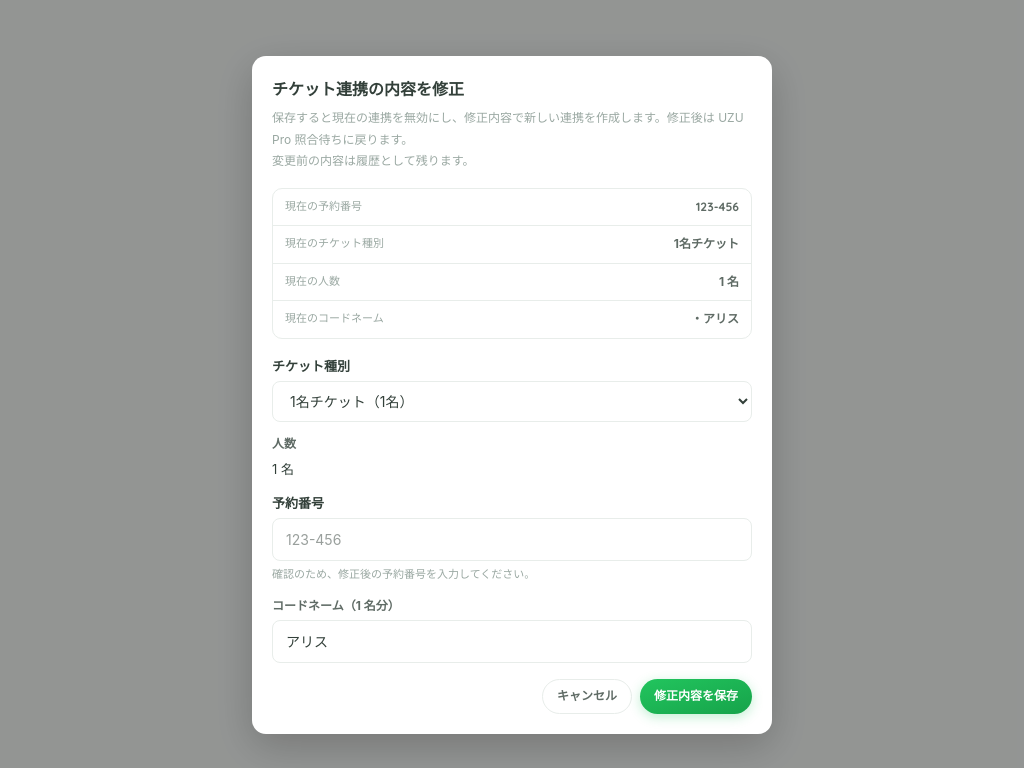
Test: 送信 › no_change は成功扱いにせず、閉じずに案内する
The width and height of the screenshot is (1024, 768).
Click the button "修正内容を保存" at (696, 696), box [640, 679, 752, 714]
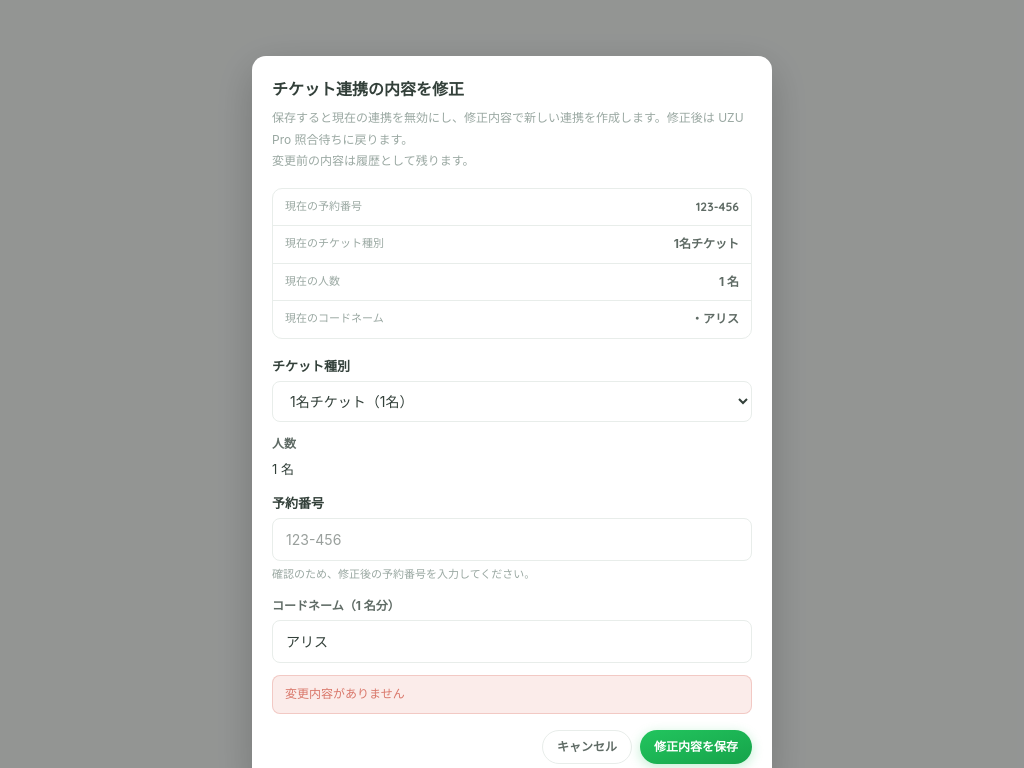
Check: the message reads "変更内容がありません", box [285, 686, 405, 701]
